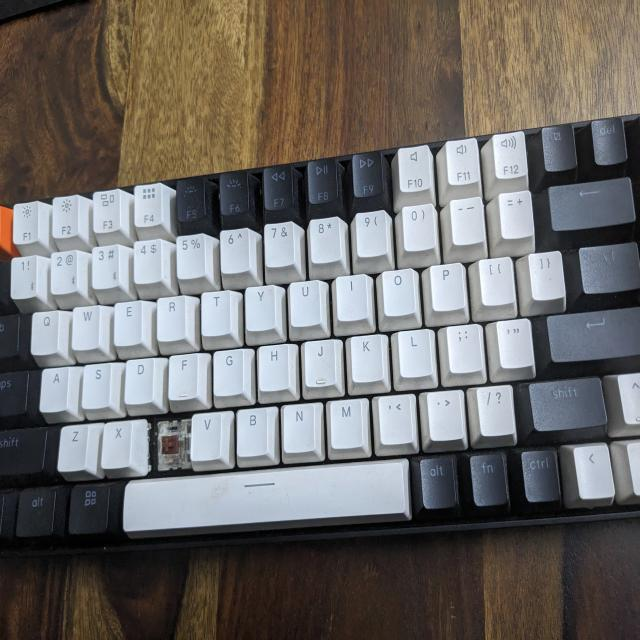C: (154, 418, 193, 470)
